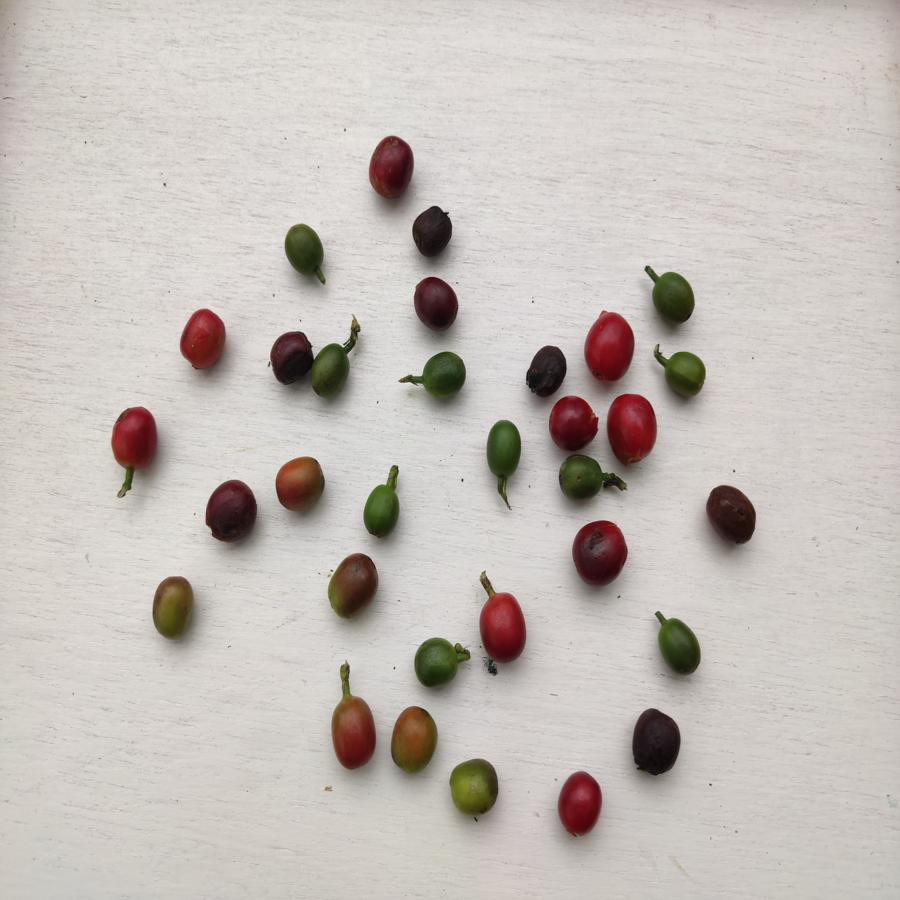Inmaduro: (655, 614, 703, 674), (651, 270, 701, 323), (412, 635, 462, 688), (360, 481, 404, 541), (281, 224, 329, 278), (311, 343, 355, 398), (419, 349, 468, 398), (484, 420, 524, 476), (662, 350, 709, 397), (558, 453, 600, 499)
Maduro: (581, 308, 638, 383), (606, 388, 660, 467), (475, 594, 533, 664), (109, 406, 166, 472), (177, 309, 233, 374), (557, 769, 605, 839), (548, 394, 601, 451)
Pinton: (329, 694, 379, 775), (322, 550, 381, 617), (387, 705, 438, 773), (445, 757, 501, 817), (273, 455, 329, 510), (150, 577, 200, 636)
Sobremaduro: (704, 481, 760, 547), (572, 520, 628, 586), (204, 482, 259, 545), (629, 708, 681, 773), (363, 137, 414, 201), (405, 205, 458, 258), (269, 332, 316, 388), (411, 277, 460, 330), (520, 344, 566, 392)
